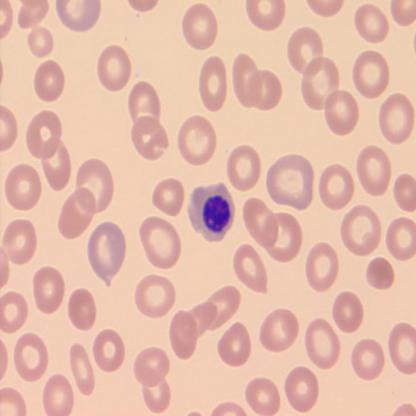NRC: (186, 180, 236, 243)
